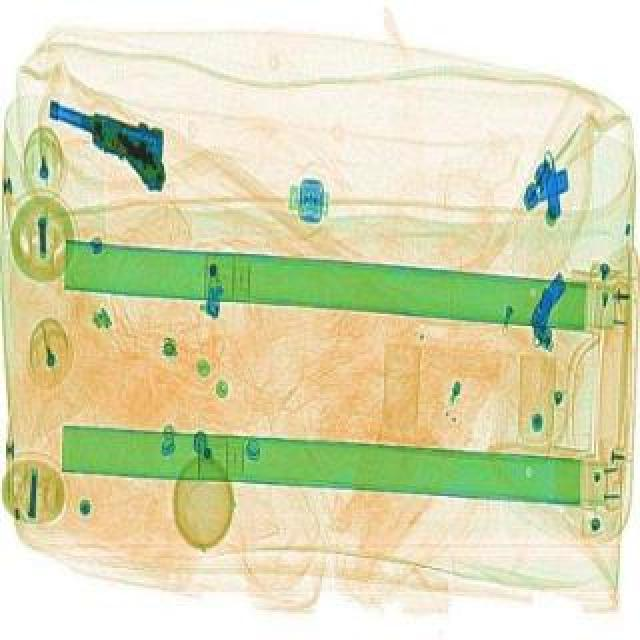gun: (34, 64, 198, 200)
